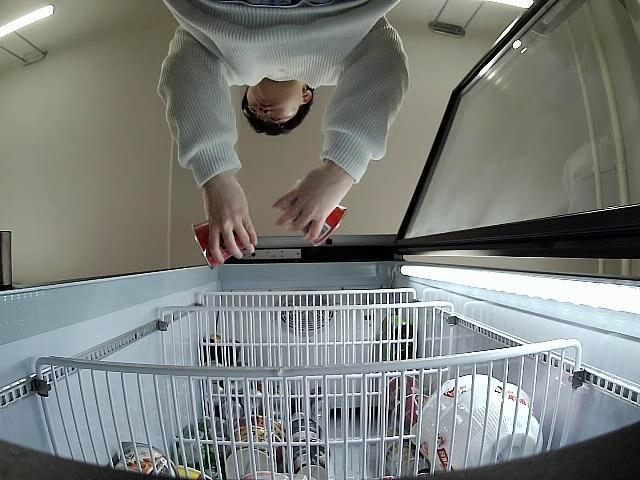02_shinRamen_S: (284, 180, 346, 247), (195, 222, 252, 270)
